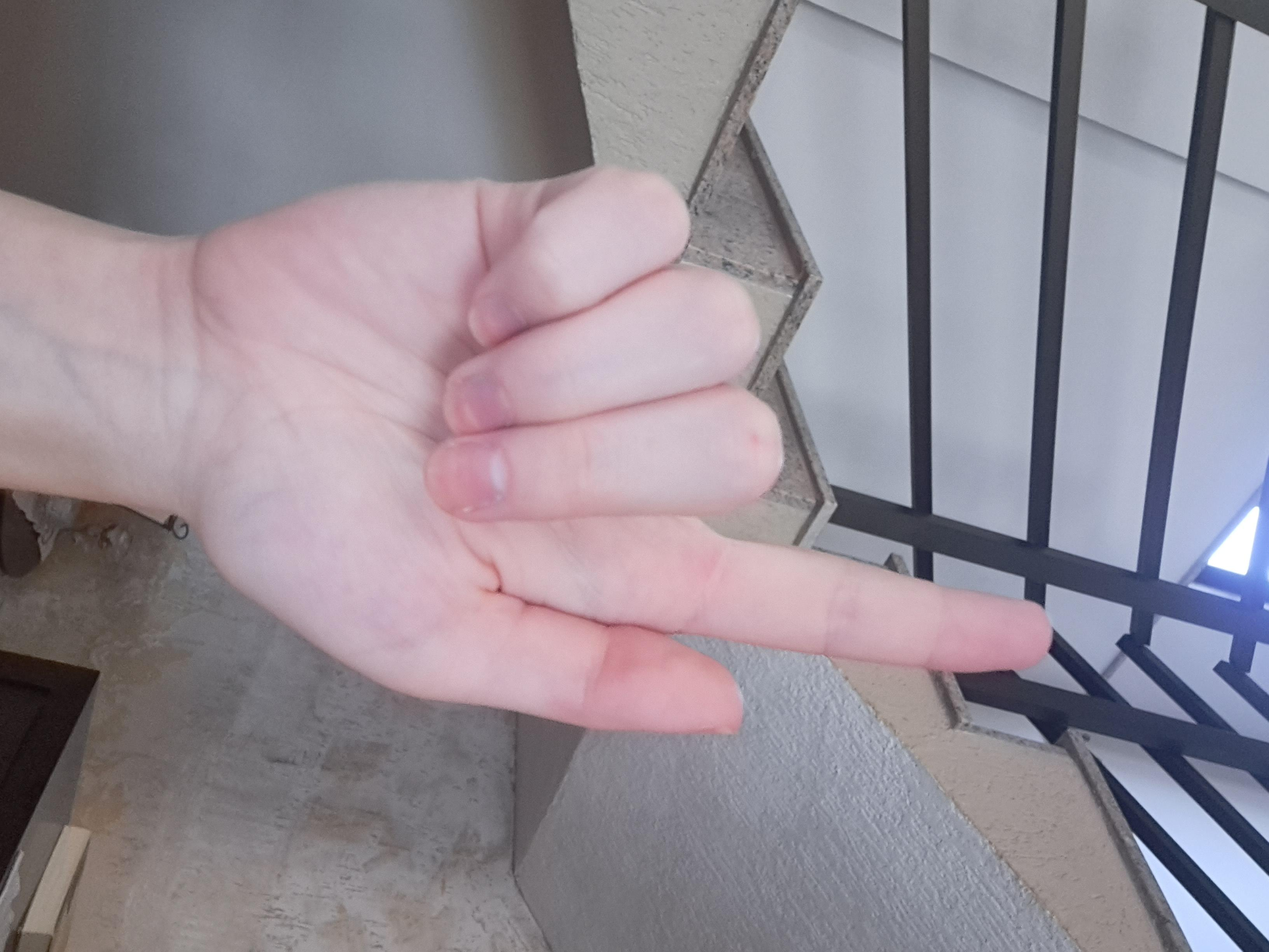G: (156, 155, 1026, 828)
